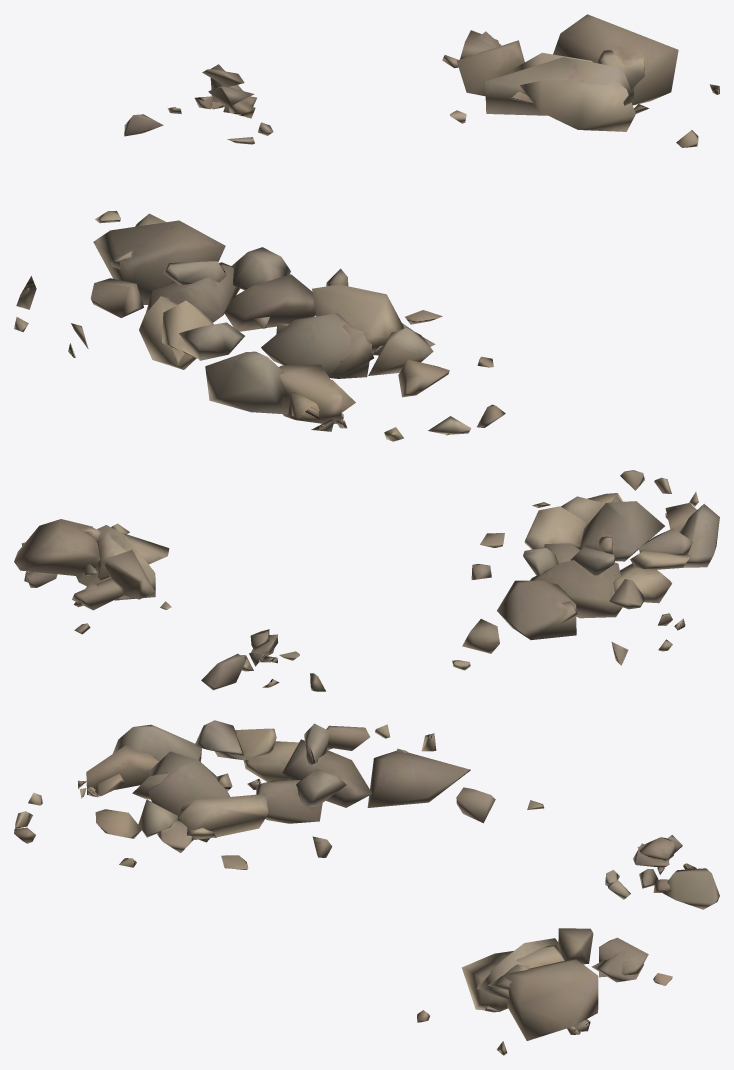
Rendered from rough-cave-1.low.glb.
The picture shows the model from 3 angles, top to bottom: view 1: azimuth 30°, elevation 25°; view 2: azimuth 150°, elevation 25°; view 3: azimuth 270°, elevation 25°; orthographic projection. The views are drawn at different scales.
Visible parts, largest first — view 1: rough-cave-1; view 2: rough-cave-1; view 3: rough-cave-1.
Boxes of the visible parts, bbox=[...] form: rough-cave-1: bbox=[14, 14, 719, 441]; rough-cave-1: bbox=[14, 470, 719, 691]; rough-cave-1: bbox=[14, 720, 719, 1055].
Size of the model in its own units: 1.58 by 0.1541 by 1.48.
1 material, 1 textured.
